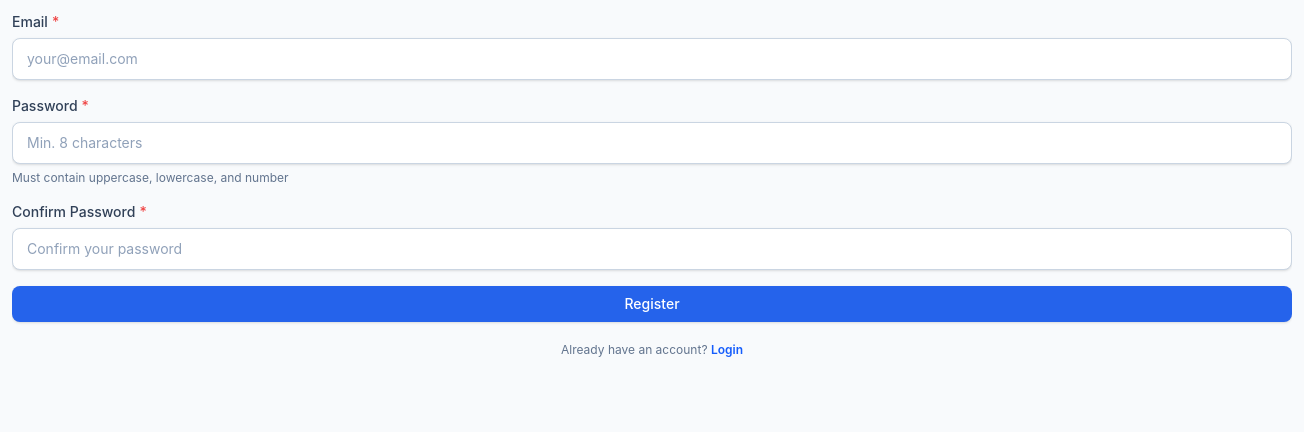
Scenario: RegisterForm › shows error when password is too short
Step 1. Type "a@b.com" into the field labelled "Email*" → coordinates (652, 59), box [12,38,1292,80]
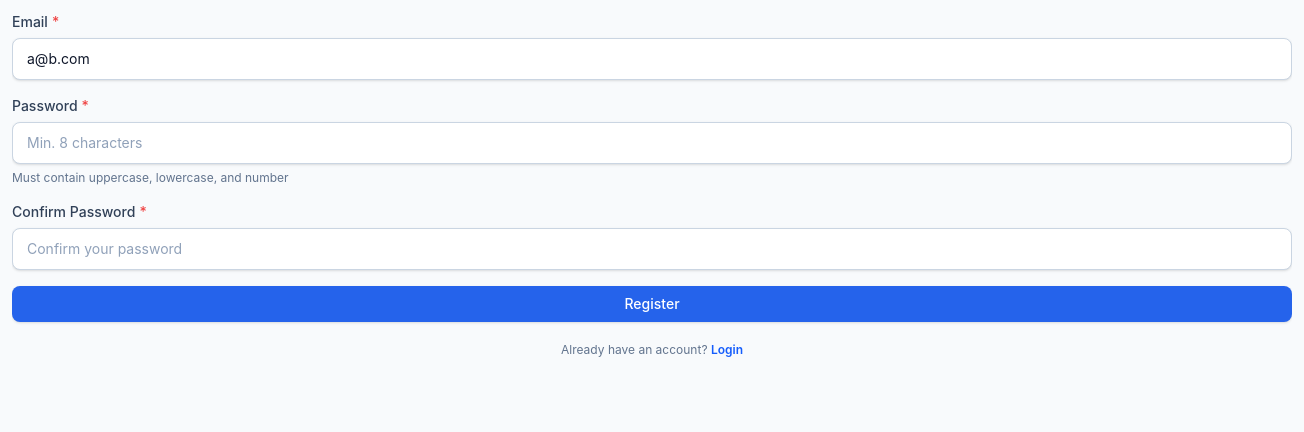
Step 2. Type "Pass1" into the password field labelled "Password*" → coordinates (652, 143), box [12,122,1292,164]
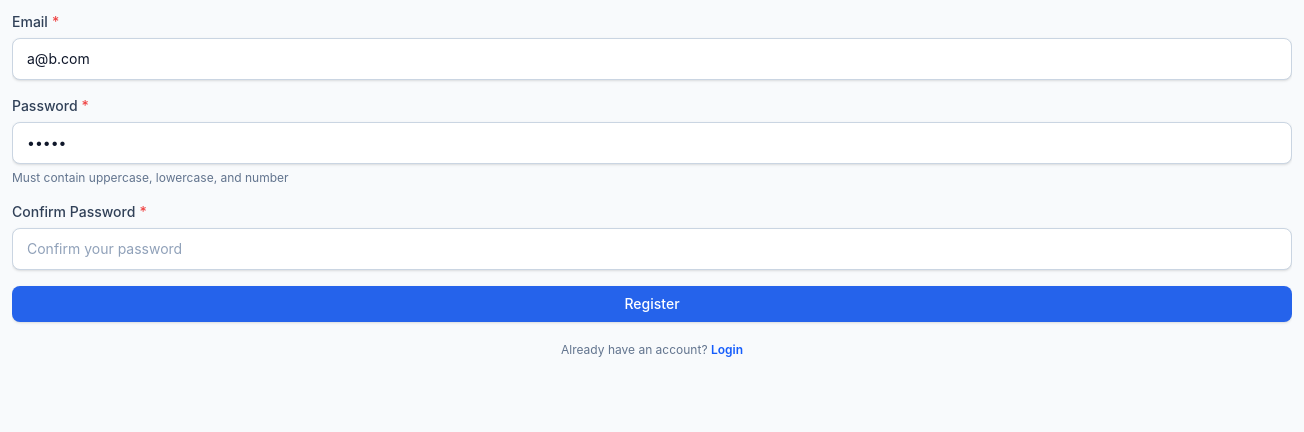
Step 3. Type "Pass1" into the password field labelled "Confirm Password*" → coordinates (652, 249), box [12,228,1292,270]
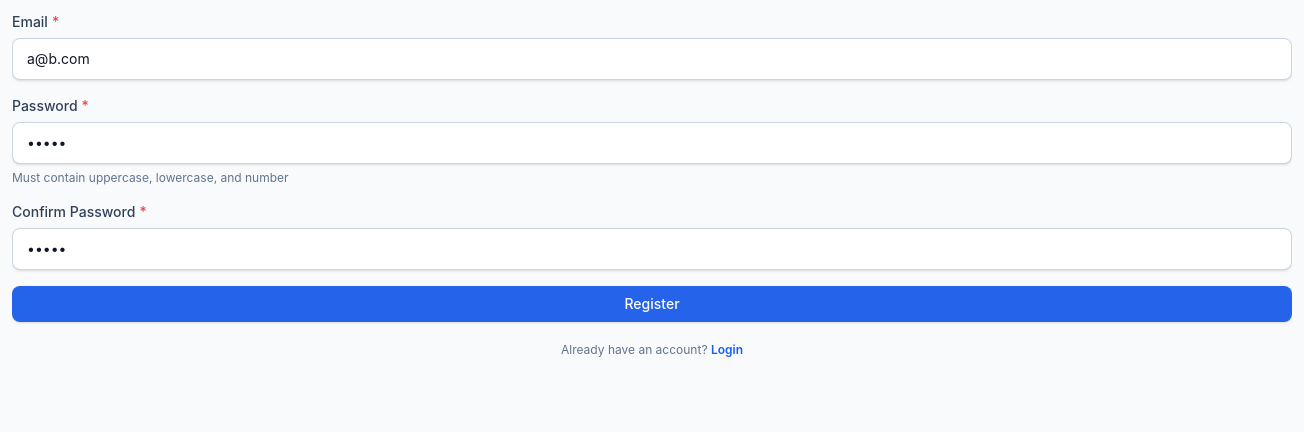
Step 4. Click the button "Register" → coordinates (652, 304), box [12,286,1292,322]
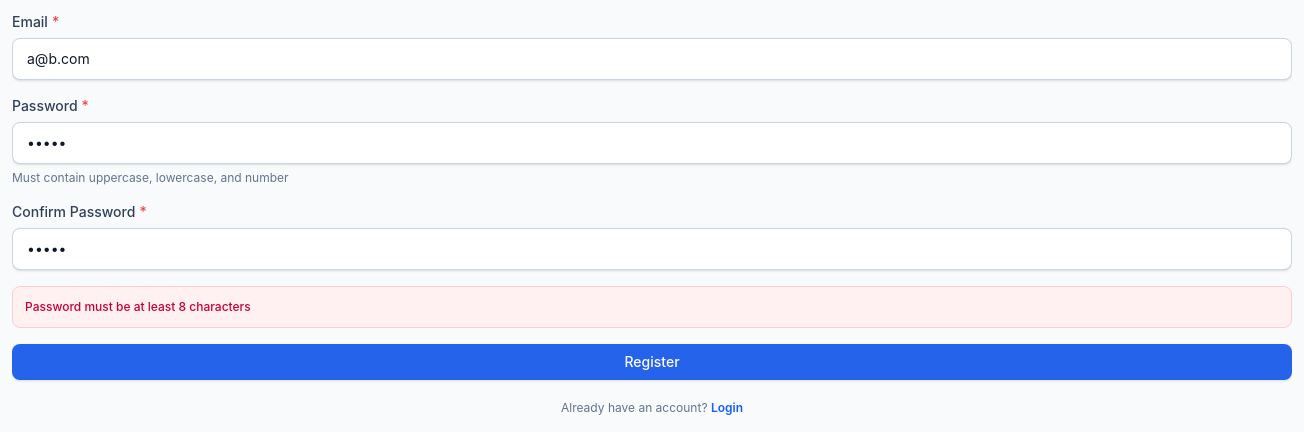
Now the text "Password must be at least 8 characters" is shown, box [12,286,1292,328]
